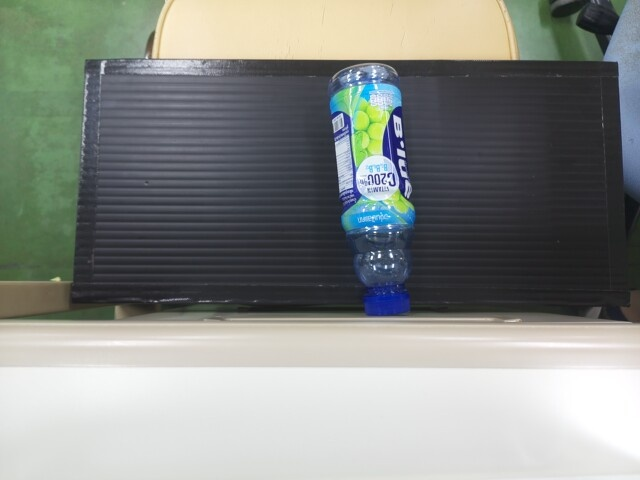plastic_bottle: (332, 54, 415, 310)
